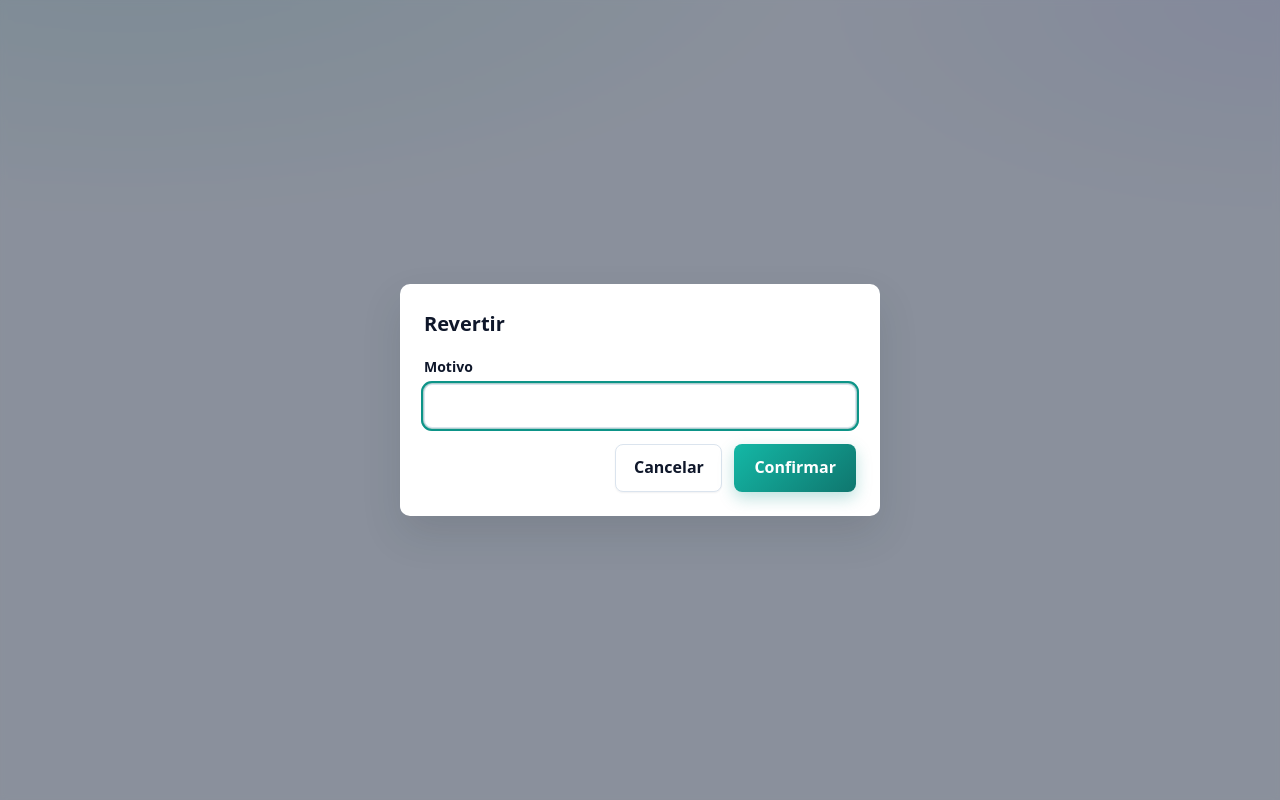
Scenario: UI components › exige motivo en el diálogo de reversión
Click the button "Confirmar".
click(795, 468)  # box left=734, top=444, right=856, bottom=492
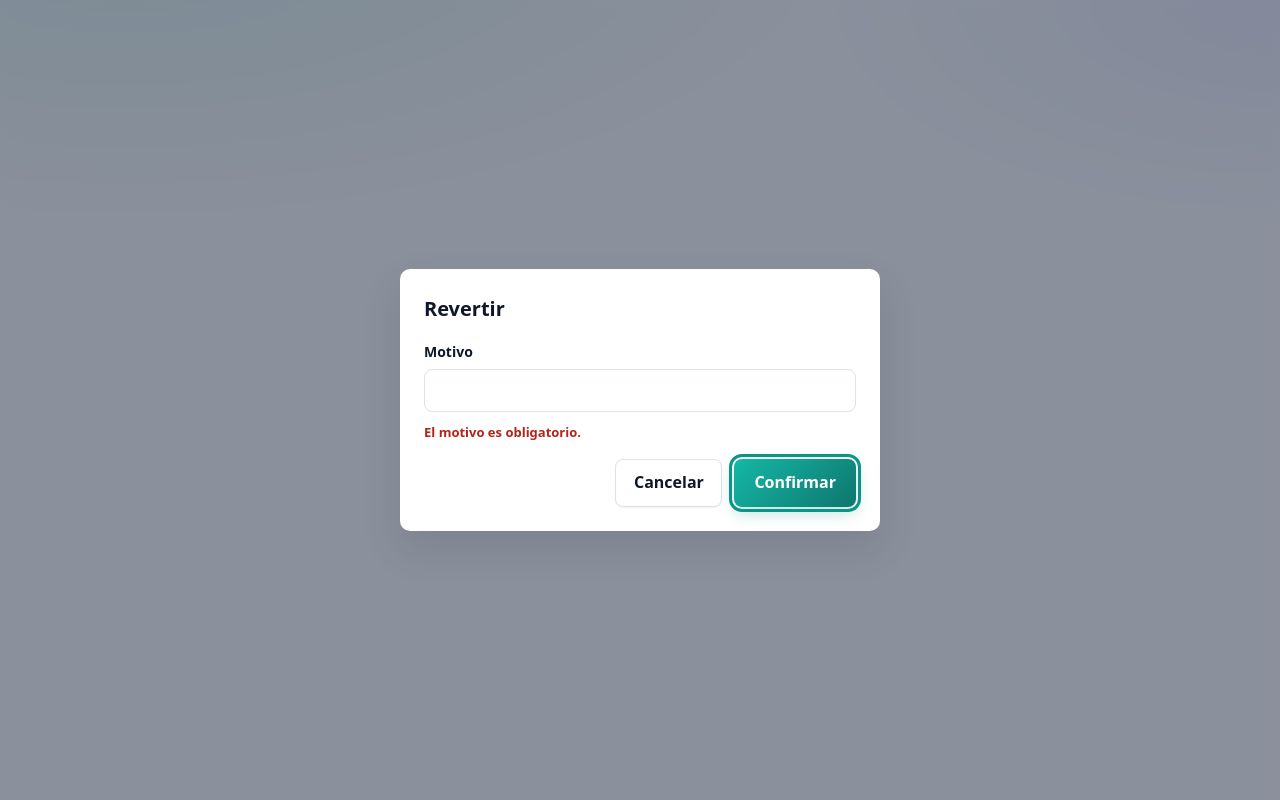
Expected: the text "El motivo es obligatorio." is shown, left=424, top=423, right=581, bottom=441
